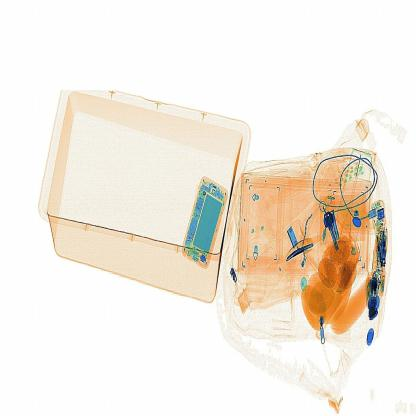pliers: (279, 232, 328, 270)
